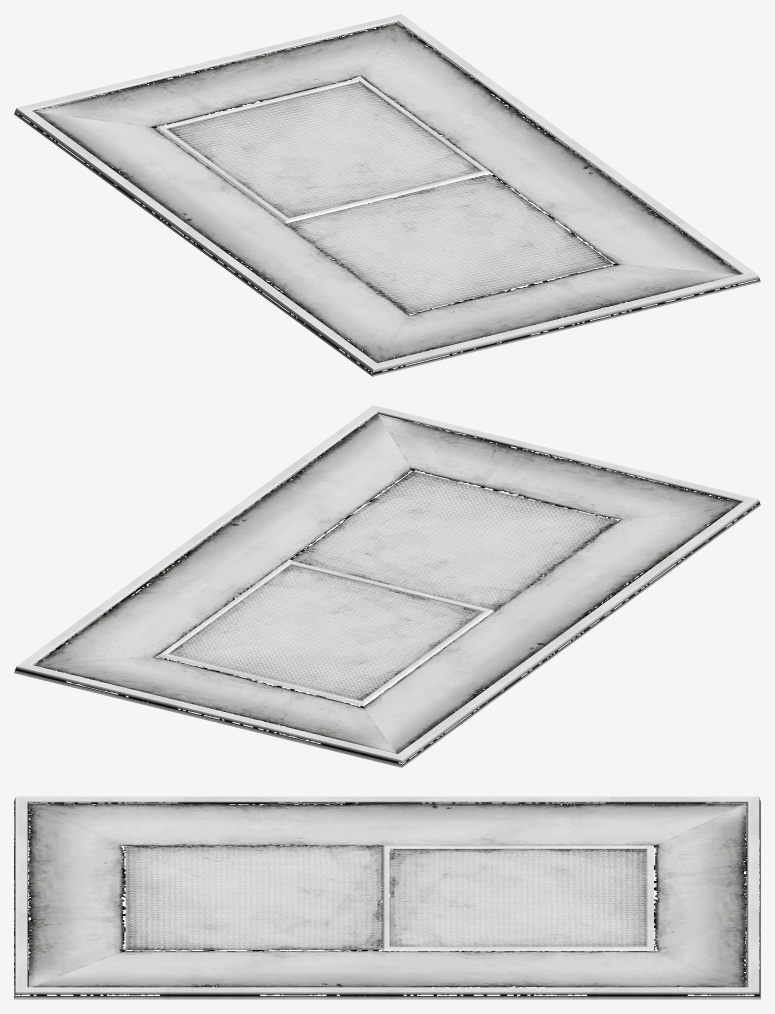
Rendered from S_RooftopStructurePlug_01a.dae.
The picture shows the model from 3 angles, top to bottom: view 1: azimuth 30°, elevation 25°; view 2: azimuth 150°, elevation 25°; view 3: azimuth 270°, elevation 25°; orthographic projection. The views are drawn at different scales.
Visible parts, largest first — view 1: S_RooftopStructurePlug_01a.003; view 2: S_RooftopStructurePlug_01a.003; view 3: S_RooftopStructurePlug_01a.003.
Boxes of the visible parts, x1,y1,x2,y2 form: S_RooftopStructurePlug_01a.003: (14, 14, 760, 376); S_RooftopStructurePlug_01a.003: (14, 405, 760, 767); S_RooftopStructurePlug_01a.003: (14, 796, 760, 999).
Size of the model in its own units: 320 by 512 by 5.25.
